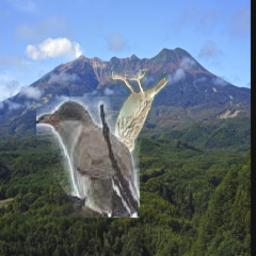Cuckoo: (37, 97, 141, 218)
Sparrow: (109, 69, 169, 159)
